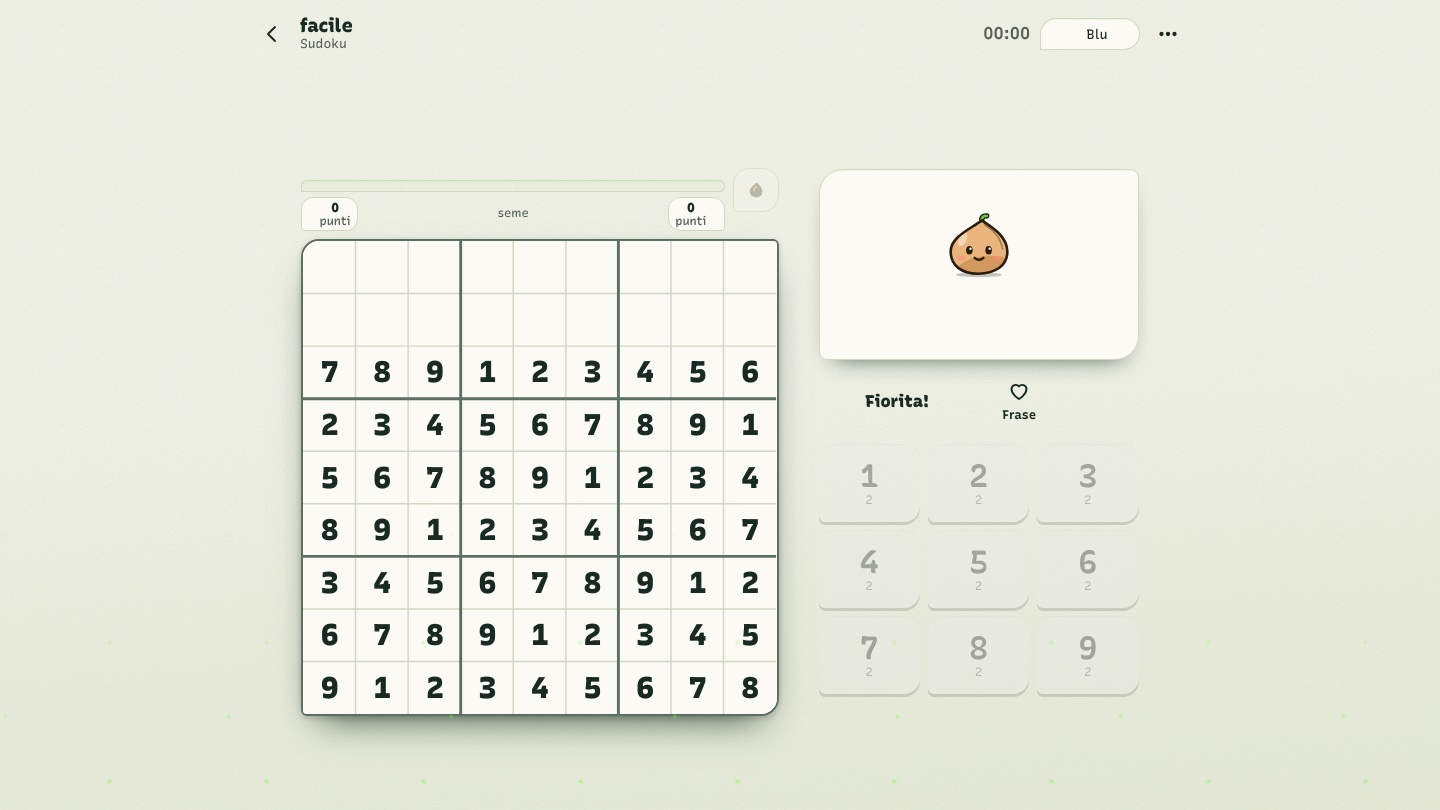
partita: tastiera, menù e fogli insieme › partita finita: nel menù niente "Cancella"
The width and height of the screenshot is (1440, 810).
Click the button with test id "menu". click: (1168, 34)
box: x1=1146 y1=12 x2=1190 y2=56
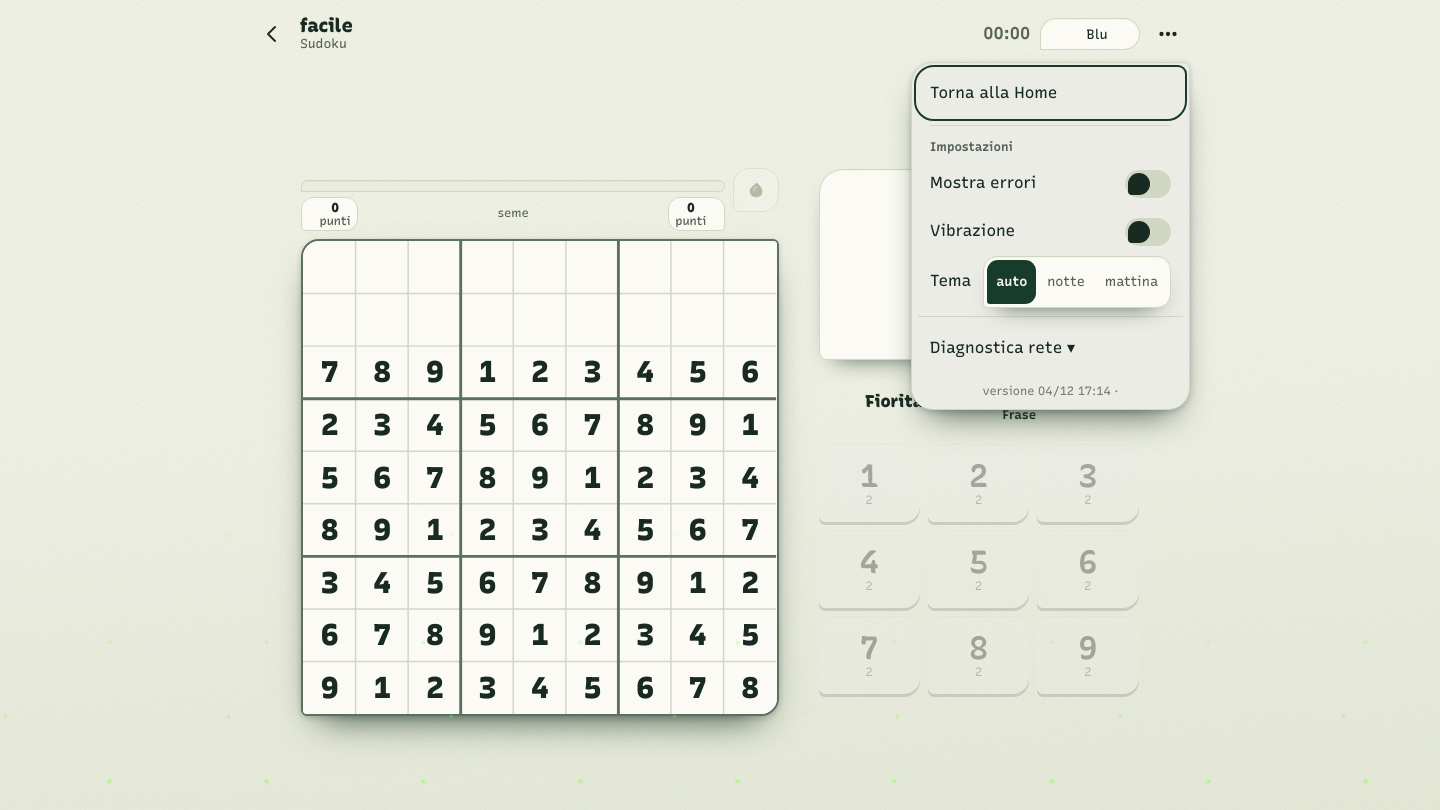
Check: the menu item with test id "menu-tema-scuro" is shown, box x1=1038 y1=260 x2=1094 y2=304
